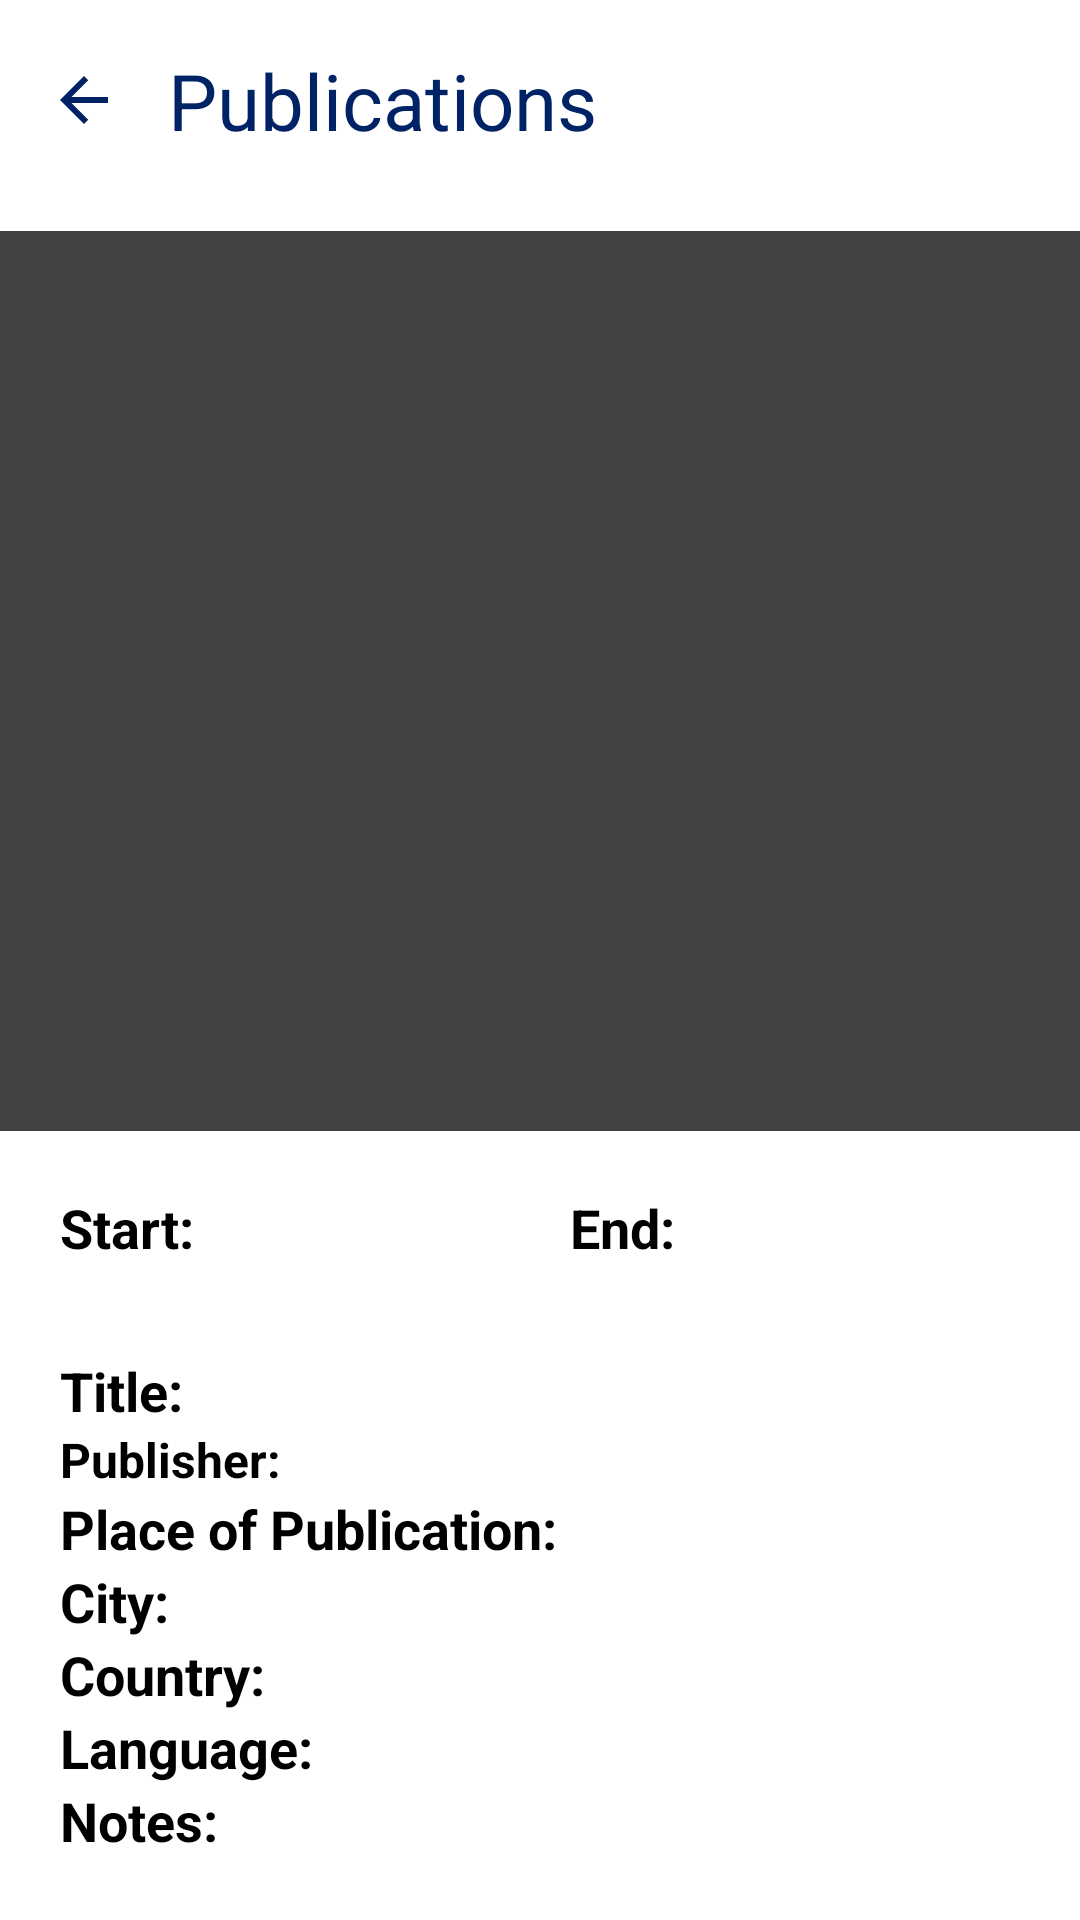

Screen size 1080px×1920px. Icon name, then its box in pixels as (x1, y1, x2, y2):
arrow back: (60, 76, 108, 124)
